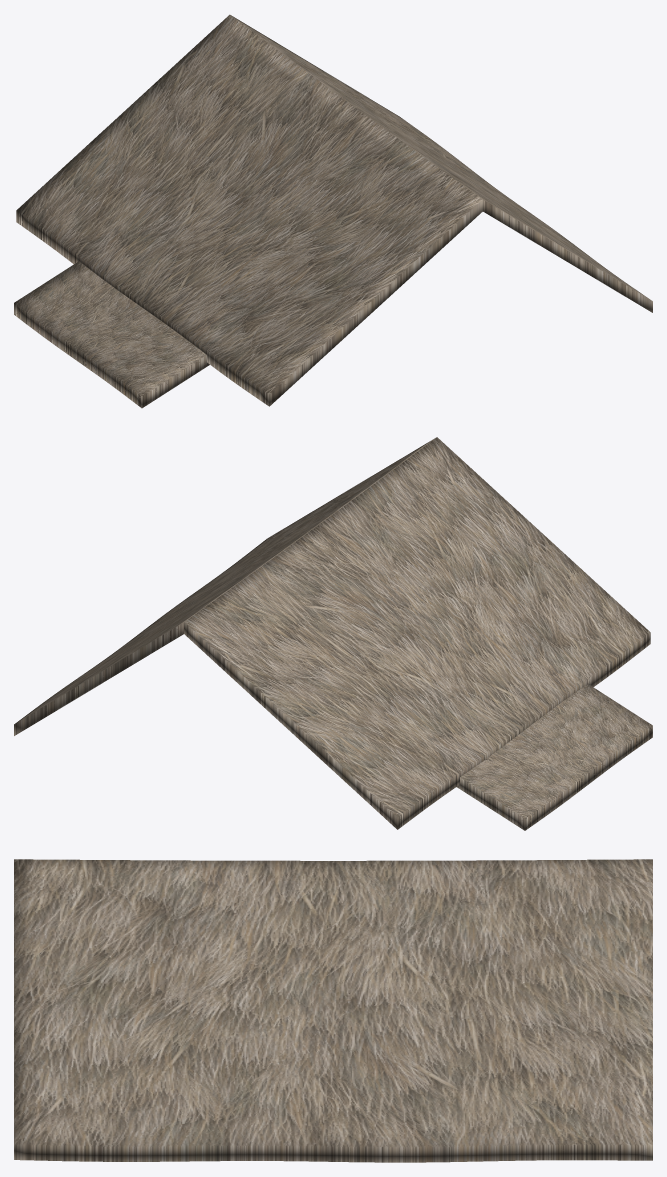
Rendered from BW_MillerCottage01_Thatch.fbx.
3 views of the same model, one above another, from view 1: azimuth 30°, elevation 25°; view 2: azimuth 150°, elevation 25°; view 3: azimuth 270°, elevation 25° (orthographic). The views are drawn at different scales.
Visible parts, largest first — view 1: BW_MillerCottage01_Thatch; view 2: BW_MillerCottage01_Thatch; view 3: BW_MillerCottage01_Thatch.
Part boxes in pixels (x1=…): BW_MillerCottage01_Thatch: x1=14, y1=14, x2=652, y2=408; BW_MillerCottage01_Thatch: x1=14, y1=437, x2=652, y2=830; BW_MillerCottage01_Thatch: x1=14, y1=859, x2=652, y2=1162.
Bounding box in the file's own units: 8.7 × 3.47 × 8.5.
